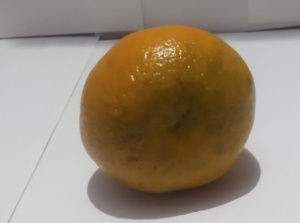BAD: (73, 25, 261, 198)
